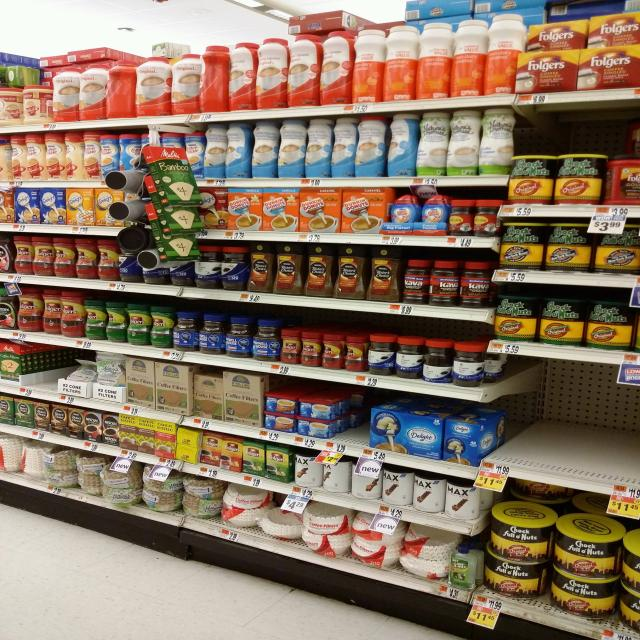empty: (482, 359, 640, 495), (331, 382, 377, 447), (19, 338, 59, 405)
